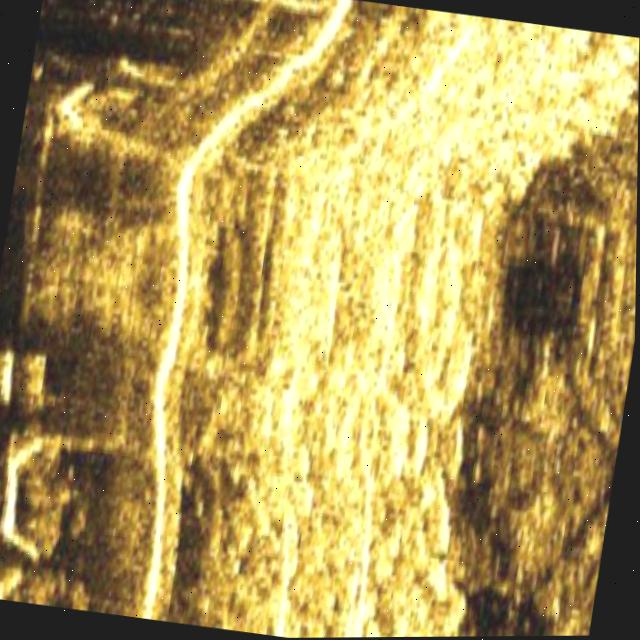bedrock group: (129, 0, 640, 639)
